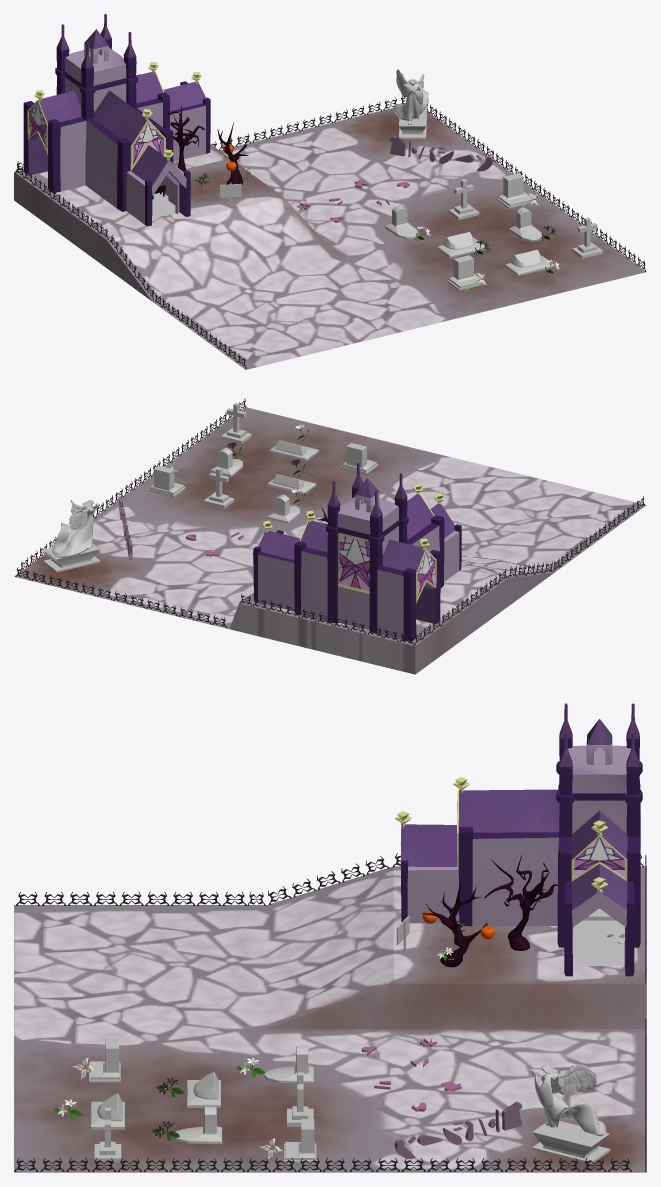
File: 7fami_clusterstage.fbx
3 views of the same model, one above another, from view 1: azimuth 30°, elevation 25°; view 2: azimuth 150°, elevation 25°; view 3: azimuth 270°, elevation 25° (orthographic). The views are drawn at different scales.
Parts seen in each view (by area): view 1: polySurface212, polySurface328, polySurface265, polySurface235, polySurface295, polySurface277, polySurface215, polySurface276, polySurface216, polySurface222, polySurface330, polySurface283 (+5 smaller); view 2: polySurface212, polySurface328, polySurface265, polySurface235, polySurface295, polySurface339, polySurface277, polySurface215, polySurface276, polySurface319, polySurface198, polySurface258 (+5 smaller); view 3: polySurface212, polySurface328, polySurface265, polySurface235, polySurface200, polySurface222, polySurface258, polySurface255, polySurface216, polySurface330, polySurface277, polySurface215 (+5 smaller).
Part boxes in pixels (<box>): polySurface212: <box>14,108,646,369</box>; polySurface328: <box>23,14,210,226</box>; polySurface265: <box>393,69,428,139</box>; polySurface235: <box>426,104,646,271</box>; polySurface295: <box>212,96,406,150</box>; polySurface277: <box>497,173,532,208</box>; polySurface215: <box>447,255,485,290</box>; polySurface276: <box>505,249,554,275</box>; polySurface216: <box>437,232,486,258</box>; polySurface222: <box>163,106,204,171</box>; polySurface330: <box>509,207,541,241</box>; polySurface283: <box>385,205,417,239</box>; polySurface212: <box>14,407,646,674</box>; polySurface328: <box>253,463,461,641</box>; polySurface265: <box>43,500,100,572</box>; polySurface235: <box>20,398,246,572</box>; polySurface295: <box>15,567,226,628</box>; polySurface339: <box>240,593,414,645</box>; polySurface277: <box>148,465,185,496</box>; polySurface215: <box>340,443,378,474</box>; polySurface276: <box>269,440,318,461</box>; polySurface319: <box>203,467,234,508</box>; polySurface198: <box>221,403,251,443</box>; polySurface258: <box>553,496,644,571</box>; polySurface212: <box>14,866,646,1172</box>; polySurface328: <box>400,703,642,976</box>; polySurface265: <box>532,1064,610,1164</box>; polySurface235: <box>14,1157,632,1171</box>; polySurface200: <box>572,908,624,965</box>; polySurface222: <box>484,854,557,950</box>; polySurface258: <box>15,891,265,905</box>; polySurface255: <box>422,881,486,967</box>; polySurface216: <box>186,1071,220,1107</box>; polySurface330: <box>172,1106,222,1144</box>; polySurface277: <box>284,1119,316,1163</box>; polySurface215: <box>89,1038,120,1082</box>.
Bounding box in the file's own units: 3000 × 1206 × 3000.
